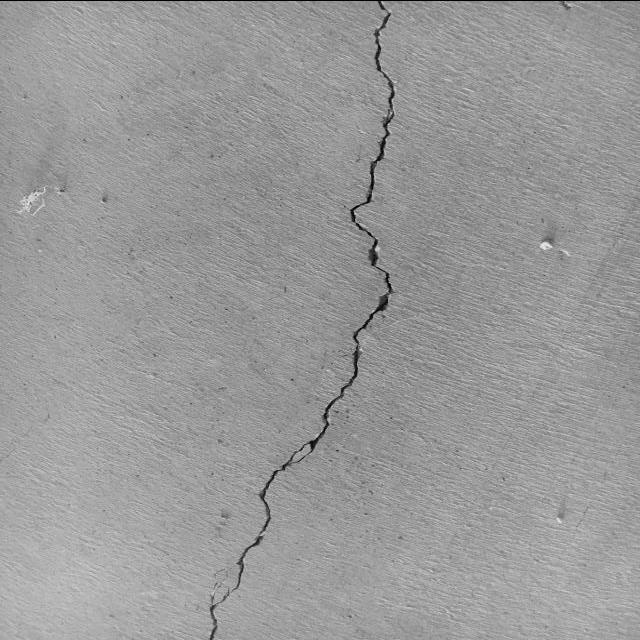SurfaceCrack: (173, 0, 422, 640)
